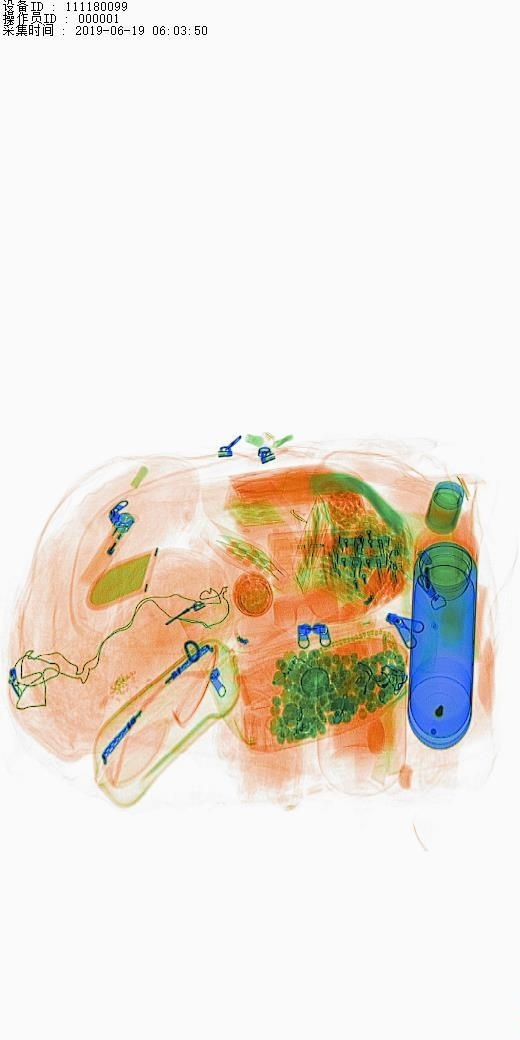NonmetallicFire: (78, 498, 152, 599)
